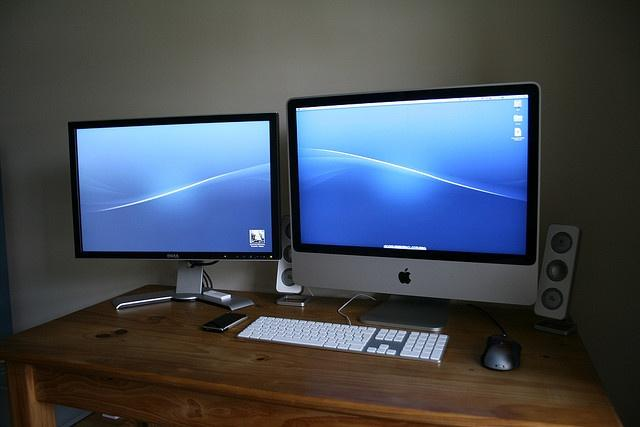AIO PC-Monitor-TV: (285, 81, 540, 330), (66, 110, 281, 310)
Meja: (5, 283, 624, 426)
